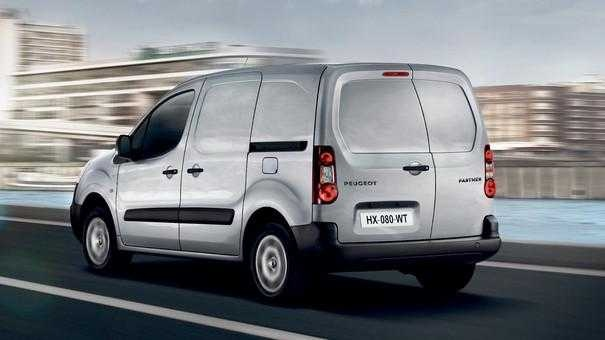van: (69, 59, 502, 306)
